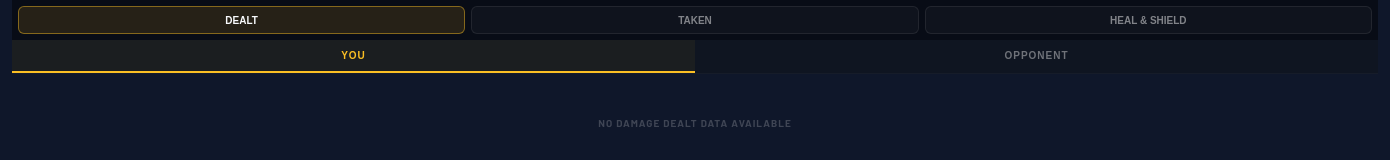
Test: DamageReport › shows the damage taken empty state when no unit took damage
The width and height of the screenshot is (1390, 160).
Click the button with class "metric-tab-btn" showing "Taken" at (695, 20), box left=471, top=6, right=919, bottom=34
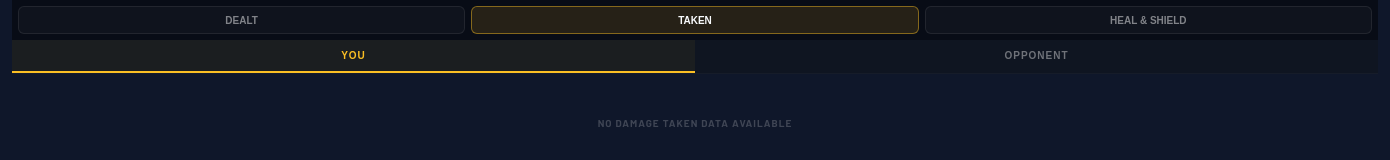
Check: the element with class "empty-state" reads "No damage taken data available", box left=598, top=117, right=792, bottom=129
